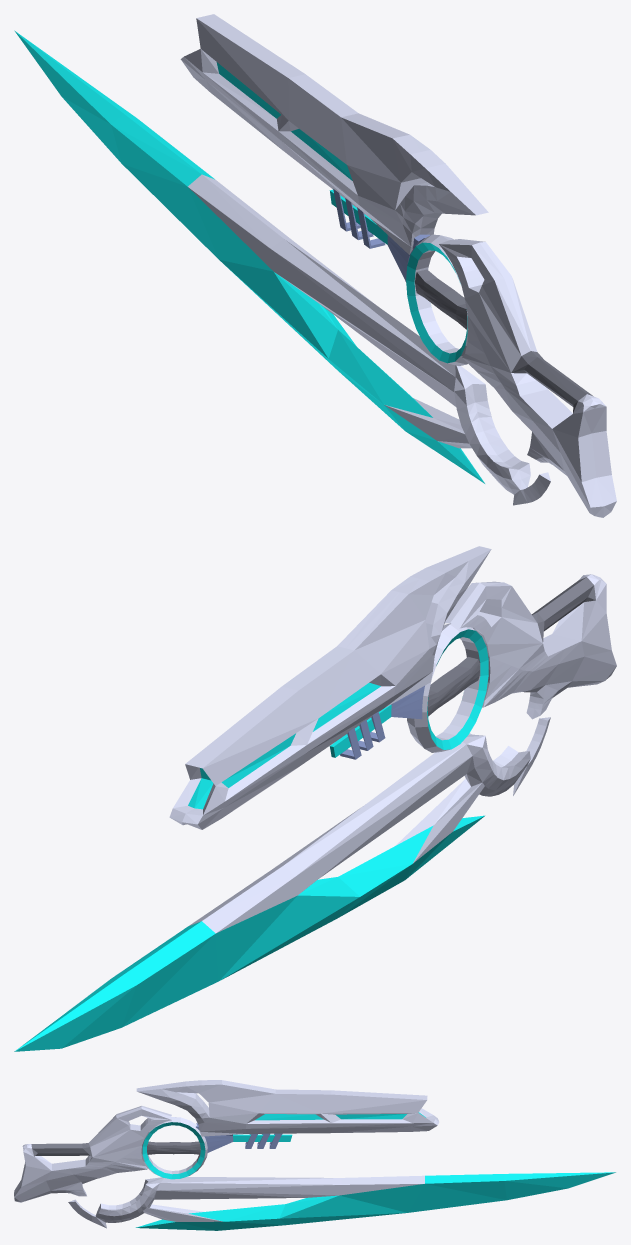
The model's file is bayon.obj.
The picture shows the model from 3 angles, top to bottom: view 1: azimuth 30°, elevation 25°; view 2: azimuth 150°, elevation 25°; view 3: azimuth 270°, elevation 25°; orthographic projection. The views are drawn at different scales.
Visible parts, largest first — view 1: Sord_Cube; view 2: Sord_Cube; view 3: Sord_Cube.
Boxes of the visible parts, bbox=[...] form: Sord_Cube: bbox=[14, 14, 616, 517]; Sord_Cube: bbox=[14, 546, 616, 1051]; Sord_Cube: bbox=[14, 1080, 615, 1230].
Bounding box in the file's own units: 0.0259 × 0.1788 × 0.6566.
Materials: 1 (1 with a texture image).
